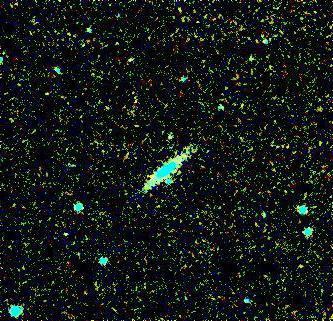star: (50, 213, 80, 243)
